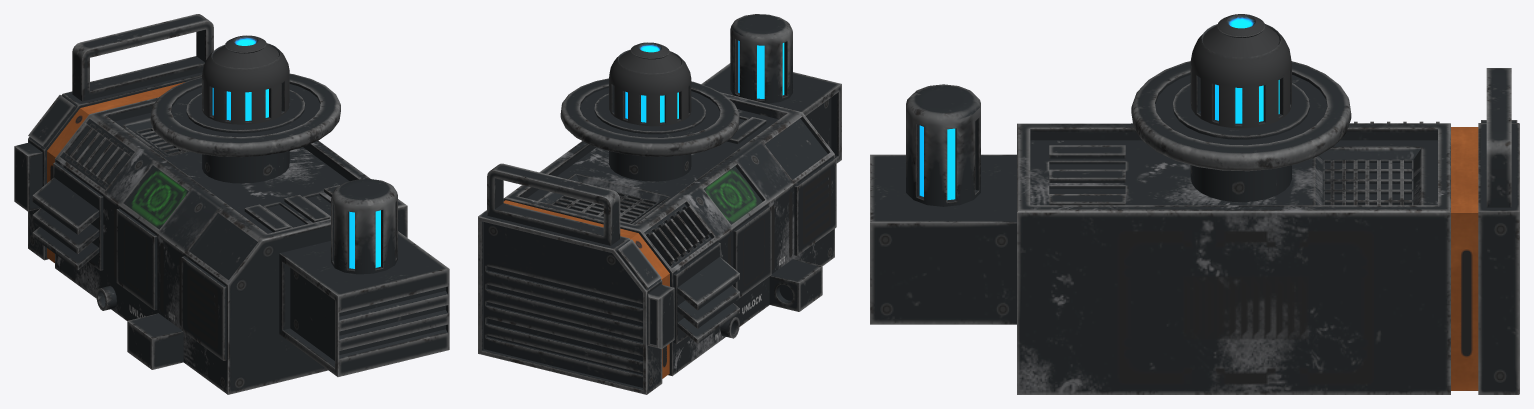
The model's file is generadores.glb.
3 views of the same model, side by side, from view 1: azimuth 30°, elevation 25°; view 2: azimuth 150°, elevation 25°; view 3: azimuth 270°, elevation 25° (orthographic). The views are drawn at different scales.
Parts seen in each view (by area): view 1: Reactor; view 2: Reactor; view 3: Reactor.
Boxes of the visible parts, left/top/right/bottom form: Reactor: left=14, top=14, right=449, bottom=394; Reactor: left=478, top=14, right=841, bottom=394; Reactor: left=870, top=14, right=1519, bottom=394.
Bounding box in the file's own units: 2.49 × 2.8 × 5.
1 material, 1 textured.
